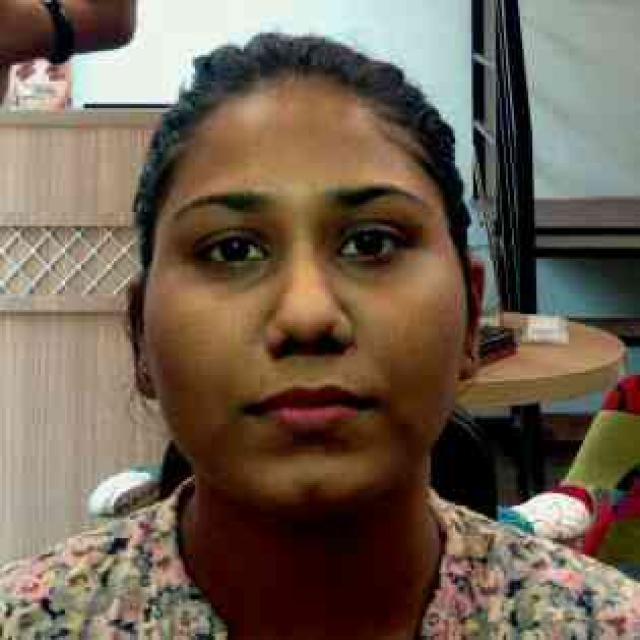puffy_eyes: (197, 254, 277, 297), (335, 252, 402, 282)
